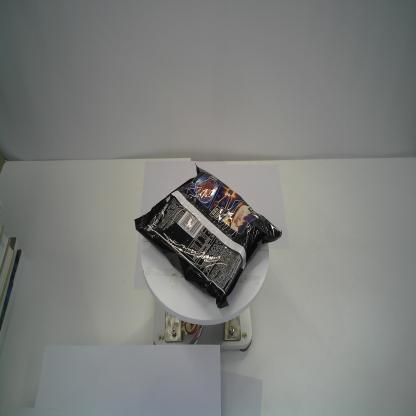Instant Noodles: (134, 160, 282, 308)
